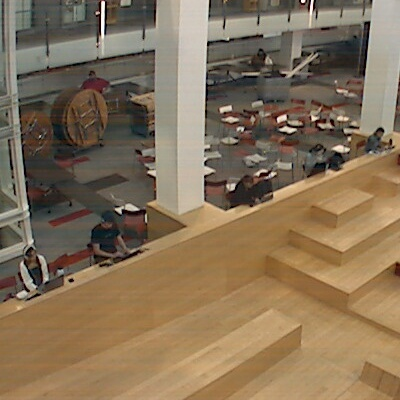head: (98, 210, 119, 231), (19, 244, 37, 262), (310, 141, 327, 158), (239, 175, 255, 191), (371, 125, 387, 141), (85, 69, 98, 82), (255, 47, 265, 57)
